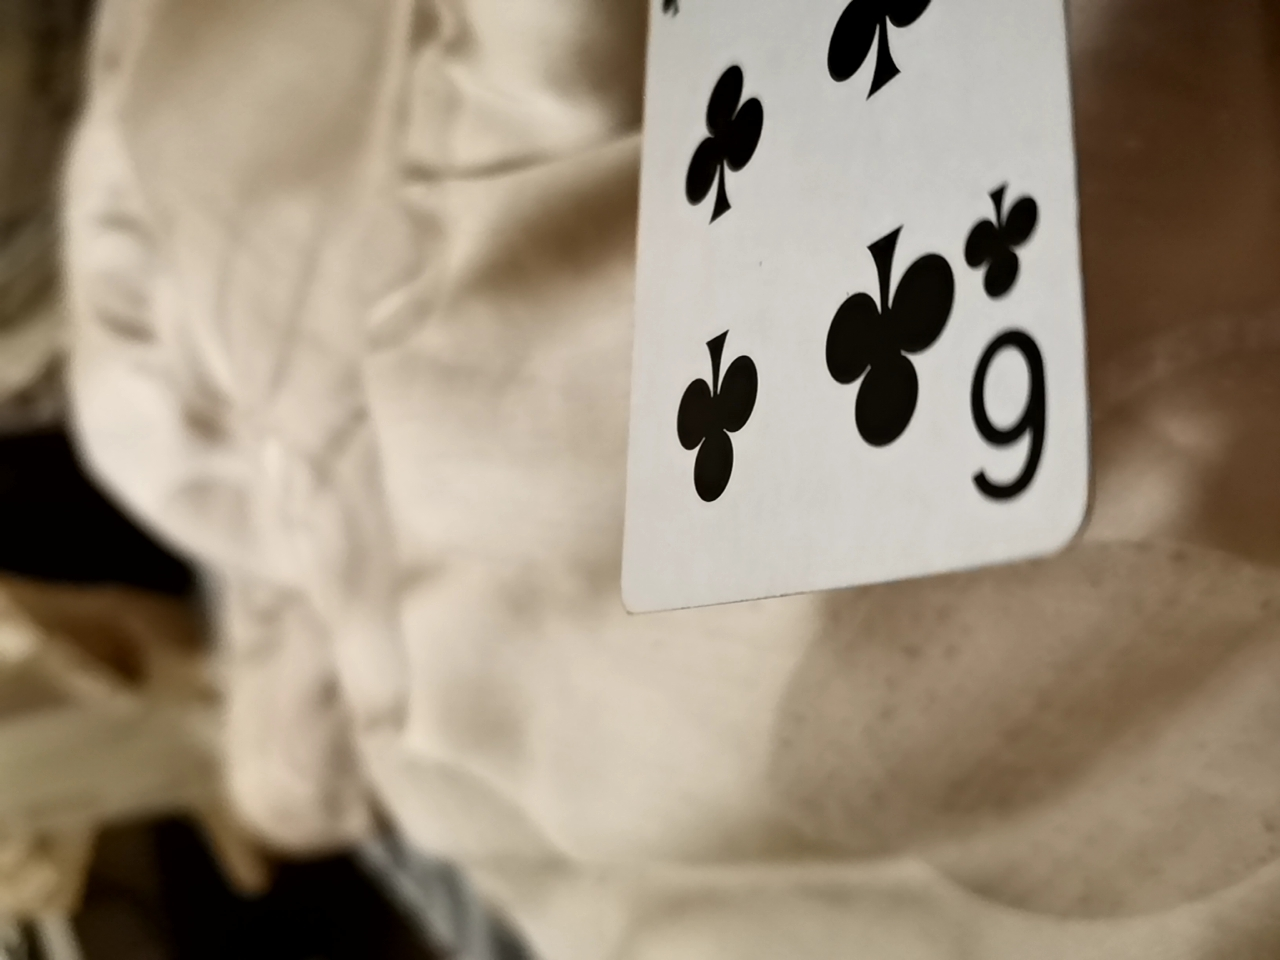mh 6: (599, 2, 1073, 615)
